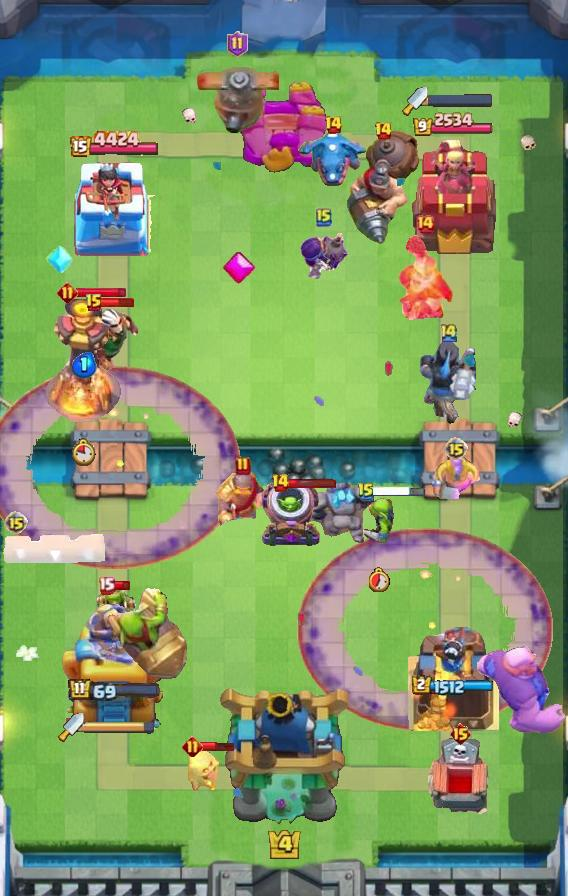balloon: (474, 644, 568, 736)
bar: (59, 595, 169, 731), (409, 138, 497, 256)
bat-evolution: (186, 745, 222, 795)
dark-prince: (195, 46, 279, 134)
electro-dragon: (45, 296, 123, 422)
electro-spirit: (71, 352, 96, 378)
elixir: (72, 438, 96, 466), (369, 567, 390, 592)
elixir-golem-mid: (425, 737, 495, 823)
emote: (373, 485, 427, 498), (76, 286, 127, 299), (287, 479, 337, 490), (200, 740, 236, 751), (101, 297, 135, 308), (113, 581, 132, 592)
firecracker: (216, 470, 270, 526)
goblin-ball: (298, 231, 350, 285)
goblin-cage: (259, 479, 323, 549)
goblin-giant: (431, 456, 481, 499)
graveyard: (297, 127, 369, 189)
inferno-dragon: (419, 338, 479, 428)
king-tower: (216, 684, 352, 826)
king-tower-bar: (84, 720, 156, 734), (428, 93, 492, 106)
minion: (0, 534, 108, 564)
pad_2: (46, 242, 74, 276)
queen-tower: (407, 627, 499, 731), (69, 158, 159, 256)
rocket: (297, 528, 553, 732), (0, 366, 240, 570)
selected: (68, 130, 159, 160), (67, 677, 160, 702), (412, 112, 494, 138), (413, 675, 496, 697)
skeleton-king: (72, 308, 138, 378)
skeleton-king-skill: (223, 251, 255, 285)
text: (444, 437, 468, 461), (4, 511, 28, 535), (448, 722, 471, 746), (227, 31, 248, 57), (57, 281, 78, 303), (181, 735, 202, 756), (439, 322, 459, 343), (415, 214, 435, 234), (324, 115, 343, 135), (374, 121, 393, 141), (271, 473, 290, 493), (85, 293, 103, 313), (357, 482, 375, 502), (316, 207, 332, 227), (235, 456, 251, 476), (98, 577, 115, 595)
valkyrie-evolution: (303, 478, 375, 546)
wall-breaker-evolution: (397, 236, 455, 321)
wizard: (345, 129, 421, 247)
x-bow: (108, 588, 188, 682)
zap: (358, 489, 400, 547), (96, 582, 138, 626)
